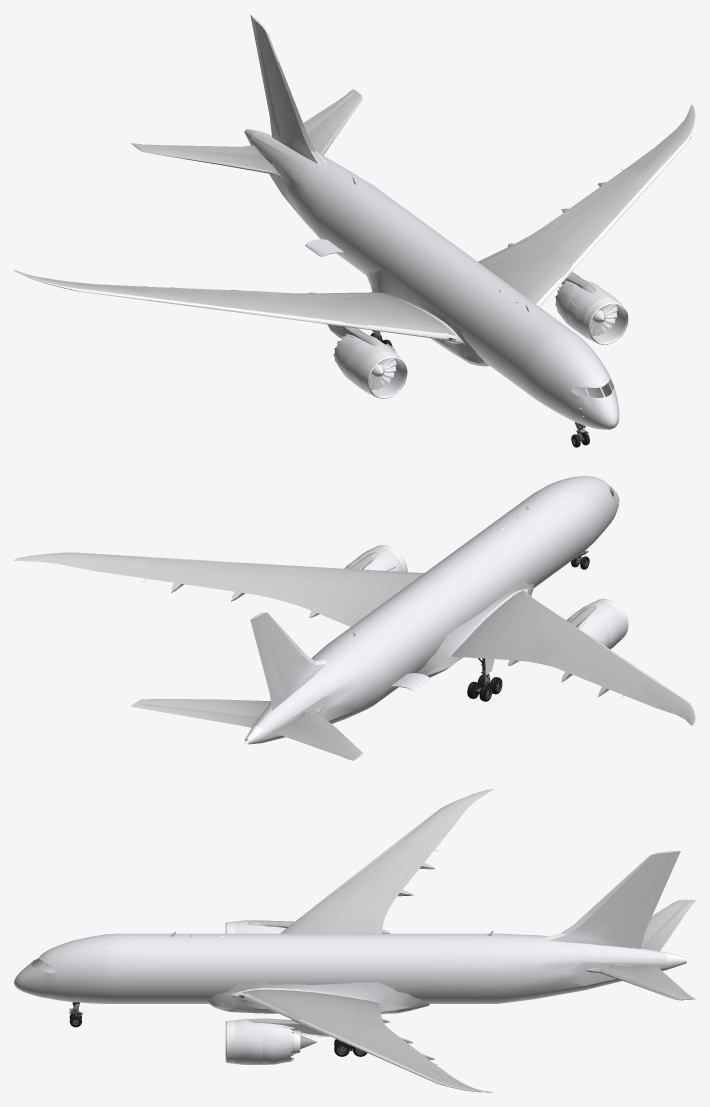
3 views of the same model, one above another, from view 1: azimuth 30°, elevation 25°; view 2: azimuth 150°, elevation 25°; view 3: azimuth 270°, elevation 25° (orthographic). The views are drawn at different scales.
Visible parts, largest first — view 1: body, rud1; view 2: body, gear, rud1, elevL1, elevR1, flapL4, flapR1, spoilR1, spoilL1; view 3: body, rud1, elevR1, gear, elevL1.
Part boxes in pixels (bbox=[...]): body: bbox=[14, 21, 695, 429]; rud1: bbox=[250, 14, 281, 141]; body: bbox=[14, 476, 695, 760]; gear: bbox=[458, 550, 589, 701]; rud1: bbox=[250, 615, 285, 710]; elevL1: bbox=[136, 703, 259, 727]; elevR1: bbox=[272, 724, 353, 759]; flapL4: bbox=[147, 574, 242, 592]; flapR1: bbox=[451, 648, 516, 659]; spoilR1: bbox=[458, 642, 541, 653]; spoilL1: bbox=[304, 592, 366, 619]; body: bbox=[14, 789, 695, 1092]; rud1: bbox=[620, 851, 680, 948]; elevR1: bbox=[641, 901, 693, 951]; gear: bbox=[69, 1002, 367, 1056]; elevL1: bbox=[635, 964, 693, 997].
Size of the model in its own units: 59.54 by 16.33 by 56.68.
20 materials, 15 textured.
